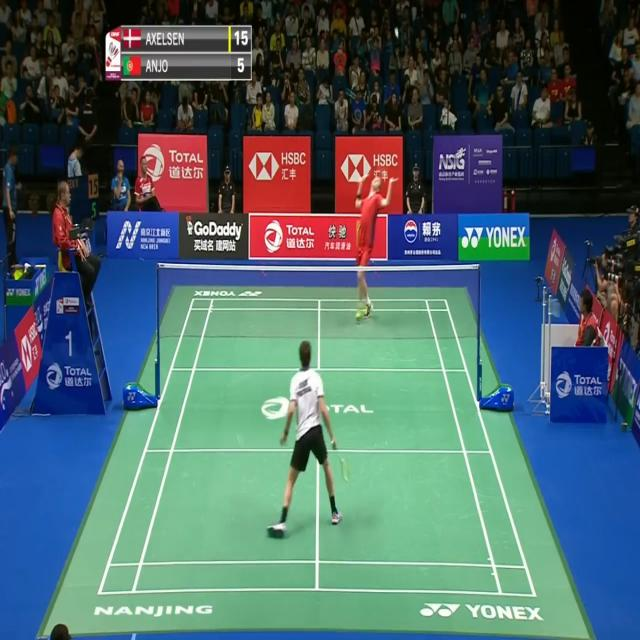Player1: (264, 328, 351, 552)
Player2: (355, 168, 397, 324)
